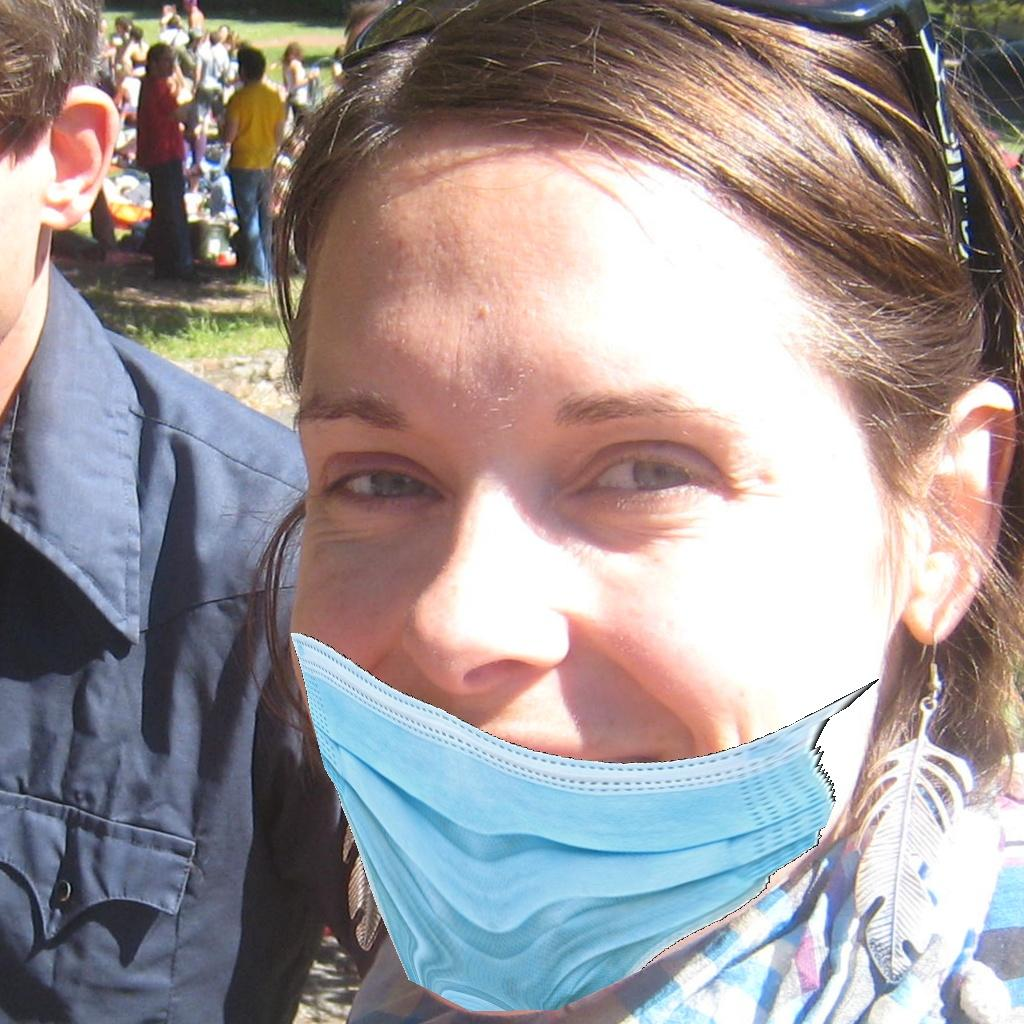Máscara Incorreta: (300, 321, 863, 965)
